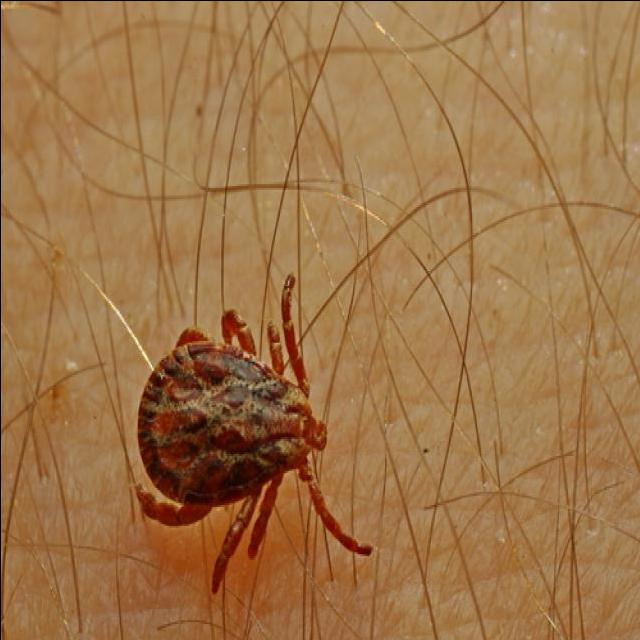Dermacentor Reticulatus-M: (136, 274, 371, 595)
